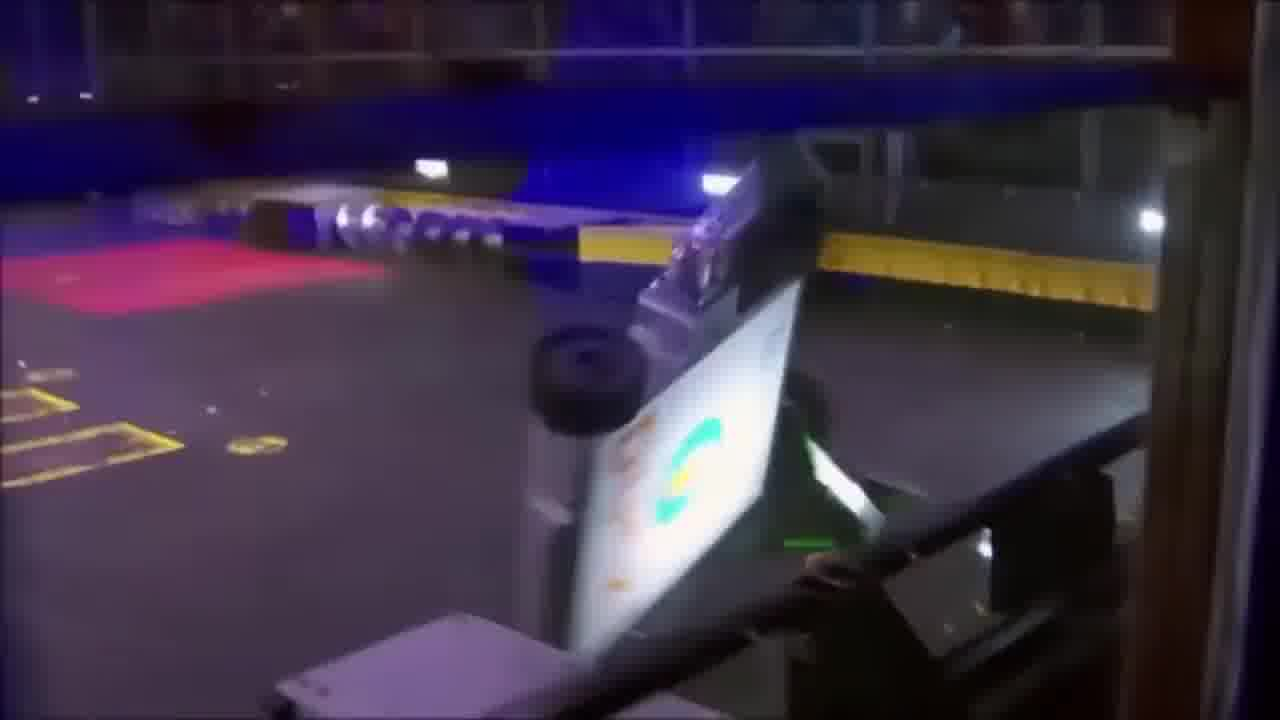combatbot: (518, 147, 851, 652)
